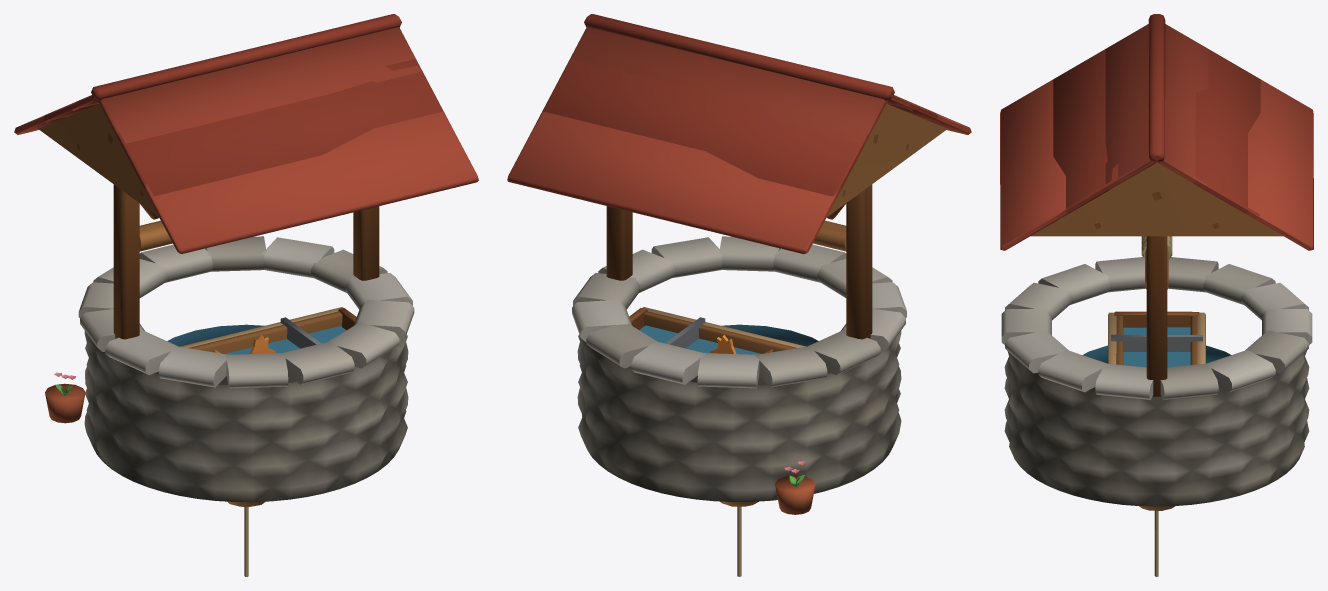
File: well.glb
The picture shows the model from 3 angles, left to right: view 1: azimuth 30°, elevation 25°; view 2: azimuth 150°, elevation 25°; view 3: azimuth 270°, elevation 25°; orthographic projection. The views are drawn at different scales.
Parts seen in each view (by area): view 1: well, trough; view 2: well, trough; view 3: well, trough.
Part boxes in pixels (x1,y1,x2,y2): well: [14, 14, 478, 502]; trough: [180, 307, 356, 354]; well: [507, 14, 971, 514]; trough: [629, 307, 805, 354]; well: [1000, 14, 1313, 506]; trough: [1108, 311, 1205, 367].
Size of the model in its own units: 2.24 by 3.68 by 2.12.
